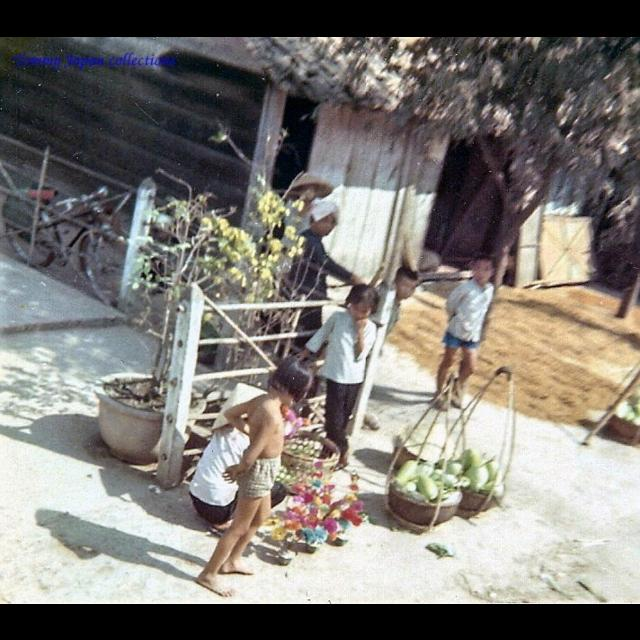Flower: (202, 188, 306, 300), (312, 36, 431, 114), (264, 478, 368, 548), (276, 404, 308, 442)
